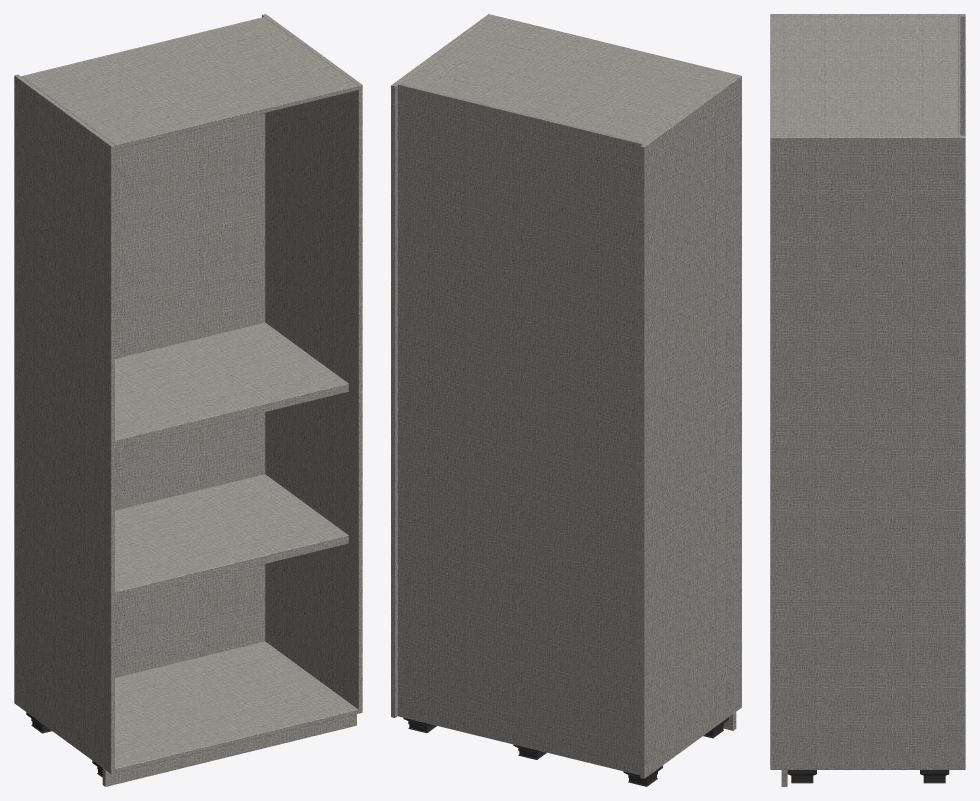
File: cbib12144.gltf
3 renders of one model, left to right at view 1: azimuth 30°, elevation 25°; view 2: azimuth 150°, elevation 25°; view 3: azimuth 270°, elevation 25°, orthographic.
Visible parts, largest first — view 1: CBIB12144; view 2: CBIB12144; view 3: CBIB12144.
Boxes of the visible parts, <box> form: CBIB12144: <box>14,14,362,786</box>; CBIB12144: <box>391,14,741,786</box>; CBIB12144: <box>770,14,965,786</box>.
Bounding box in the file's own units: 0.9 × 2.2 × 0.6.
3 materials, 2 textured.
